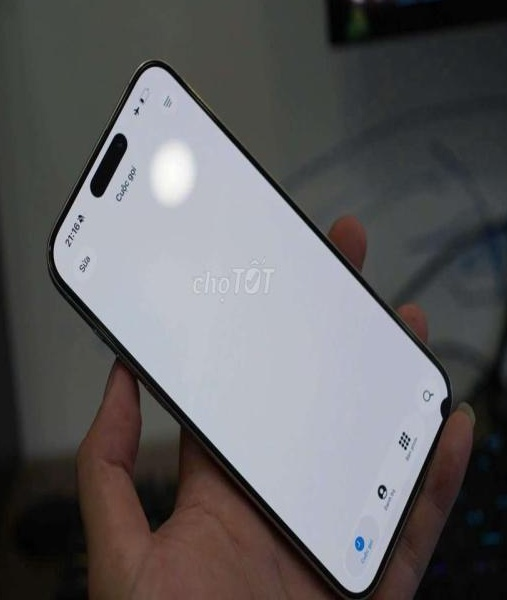screen_defect: (427, 357, 451, 434)
